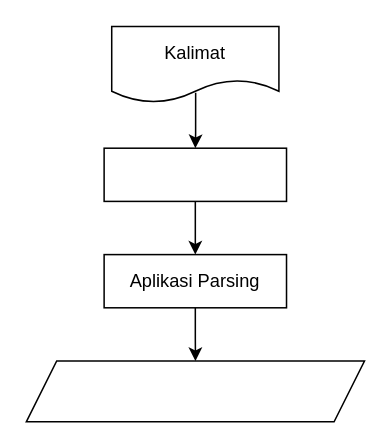
Some shapes in this 392 by 448 pixel diagram are drawn without their labels. Here are the shapes that lost their labels. From the top down, the centre of each, then its label:
pixel 195 174: Split Menjadi Kata
pixel 194 390: Hasil Deteksi Struktur Kalimat
